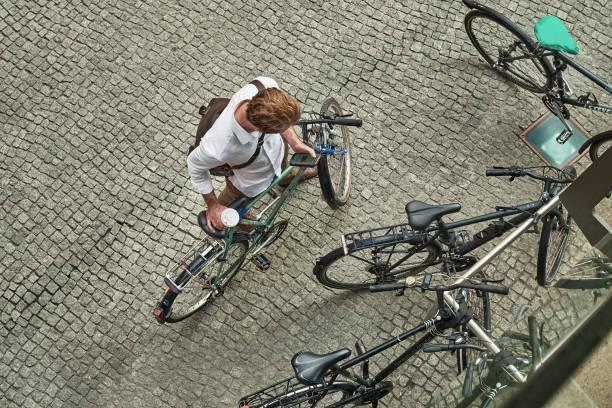Motorcycle: (167, 96, 333, 294), (260, 306, 536, 408), (340, 172, 573, 270), (467, 0, 612, 122)
